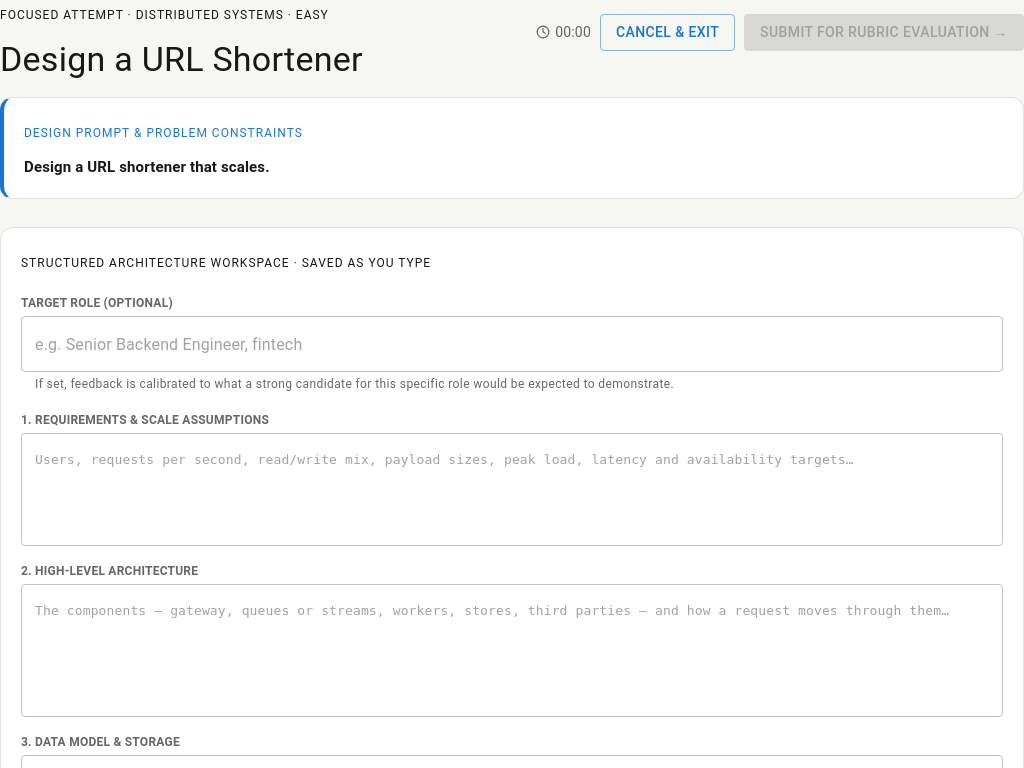
Test: SystemDesignAnswerPage › drafts › flushes the draft before submitting, so a failed grade loses nothing
In the text box labelled "2. High-level architecture": (512, 651) [35, 601, 989, 701], type "A design."
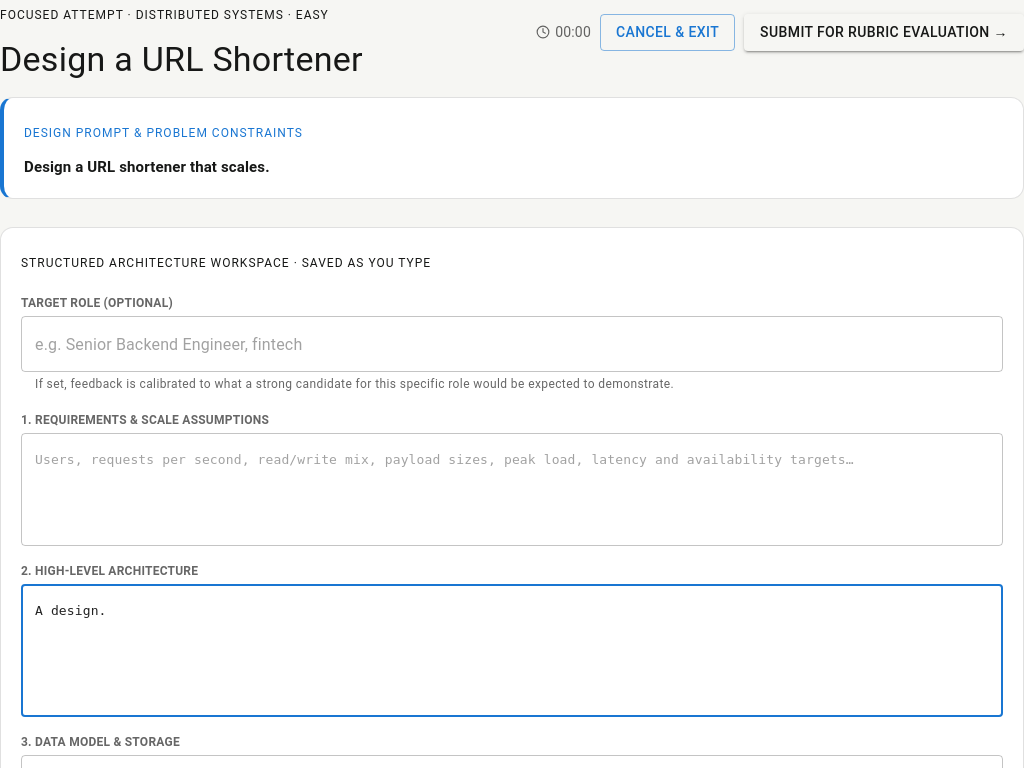
Click the button "Submit for rubric evaluation →": (884, 32) [744, 14, 1023, 50]
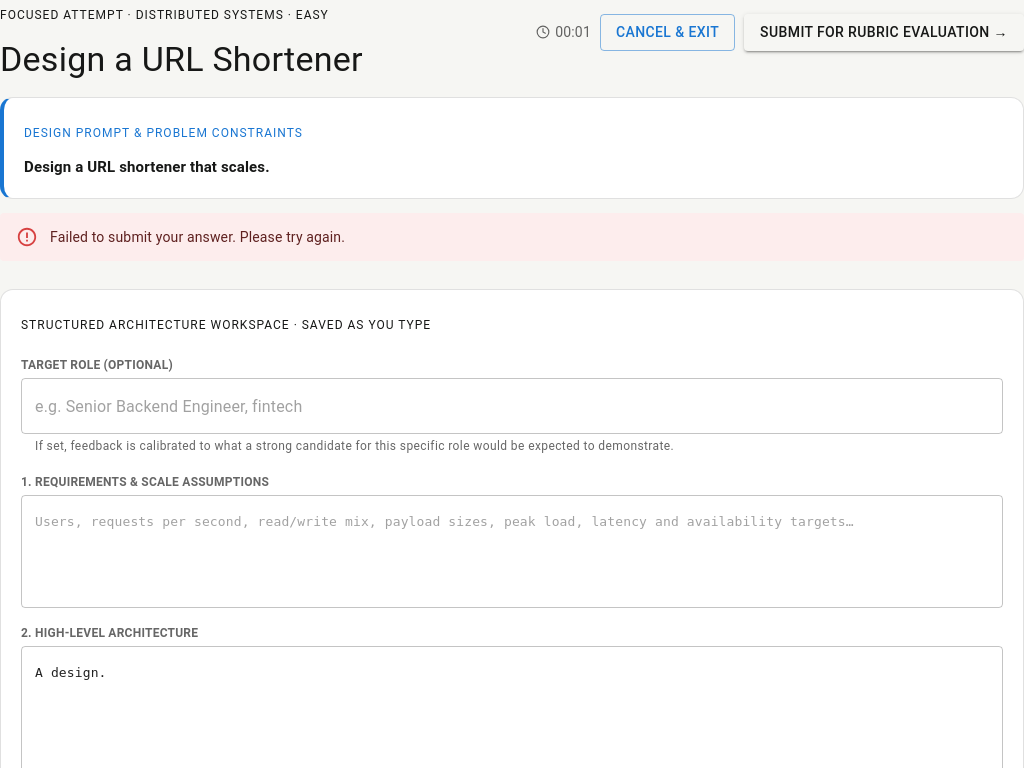
Expected: the text "Failed to submit your answer. Please try again." is shown, [50, 229, 345, 245]
